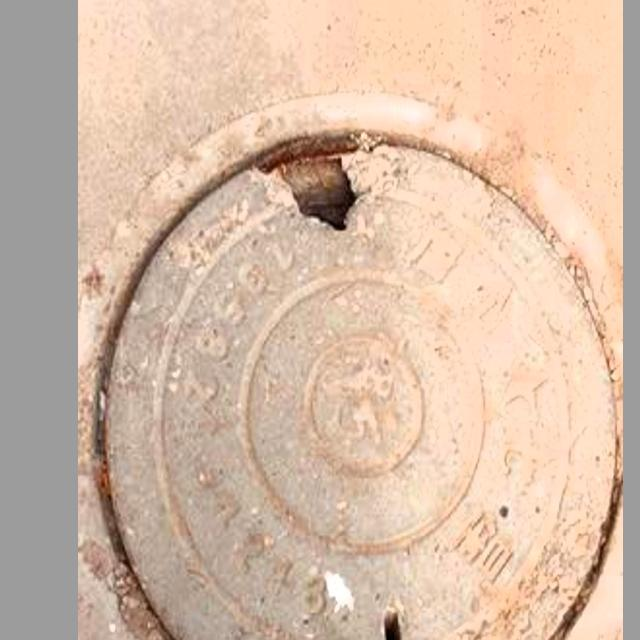broke: (85, 74, 619, 640)
